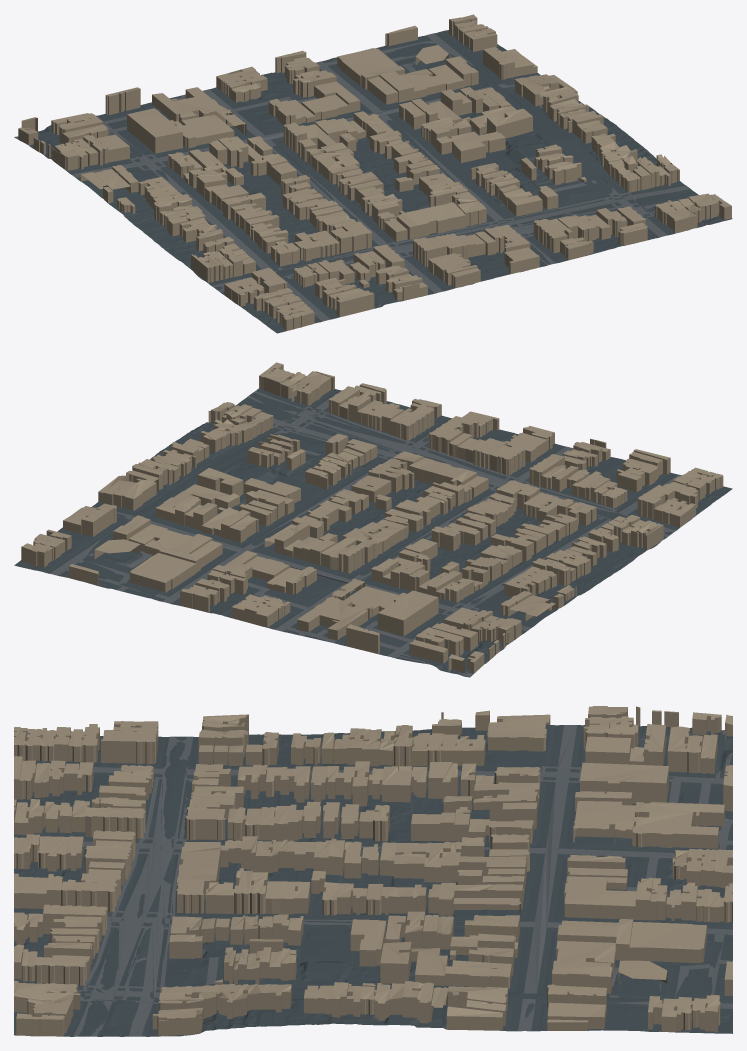
Rendered from epsg26910-1424-10890.lod0.glb.
3 renders of one model, top to bottom at view 1: azimuth 30°, elevation 25°; view 2: azimuth 150°, elevation 25°; view 3: azimuth 270°, elevation 25°, orthographic. The views are drawn at different scales.
Parts seen in each view (by area): view 1: epsg26910-1424-10890-lod0; view 2: epsg26910-1424-10890-lod0; view 3: epsg26910-1424-10890-lod0.
Boxes of the visible parts, x1,y1,x2,y2 form: epsg26910-1424-10890-lod0: [14, 14, 732, 333]; epsg26910-1424-10890-lod0: [14, 362, 732, 677]; epsg26910-1424-10890-lod0: [14, 706, 732, 1036].
Size of the model in its own units: 384 by 21.94 by 384.
